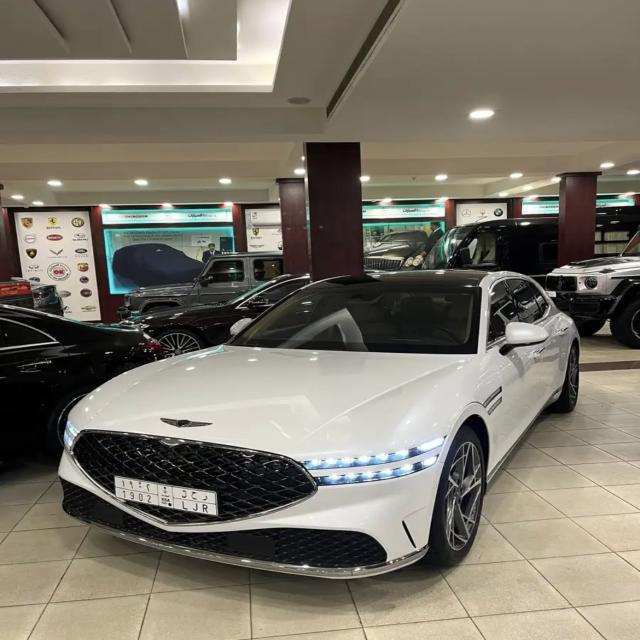license_plate: (114, 476, 218, 514)
